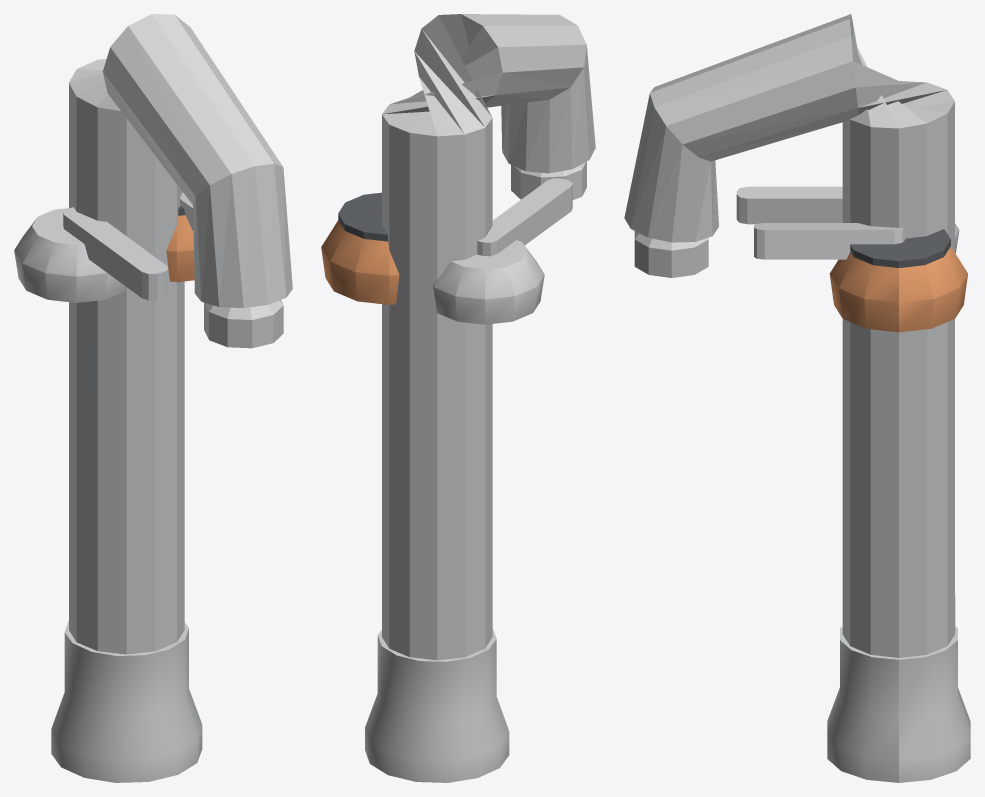
File: home-appliances-and-utility-tap-boiling-water-1abcdf86__14117.glb
3 renders of one model, left to right at view 1: azimuth 30°, elevation 25°; view 2: azimuth 150°, elevation 25°; view 3: azimuth 270°, elevation 25°, orthographic. The views are drawn at different scales.
Parts seen in each view (by area): view 1: tap-boiling-water; view 2: tap-boiling-water; view 3: tap-boiling-water.
Part boxes in pixels (x1,y1,x2,y2): tap-boiling-water: [14, 14, 292, 782]; tap-boiling-water: [321, 14, 595, 782]; tap-boiling-water: [624, 14, 970, 782].
Size of the model in its own units: 0.112 by 0.3739 by 0.16.
